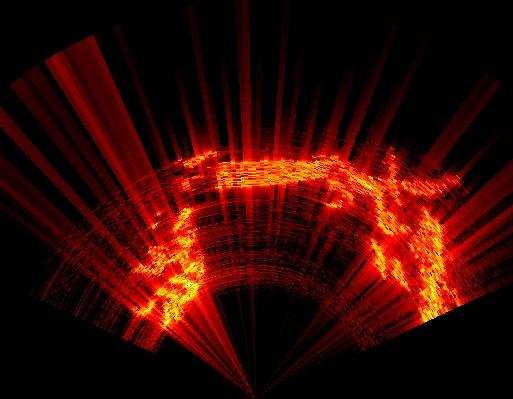shipwreck: (216, 156, 434, 235), (133, 208, 204, 326), (416, 211, 459, 321), (371, 239, 411, 289)
